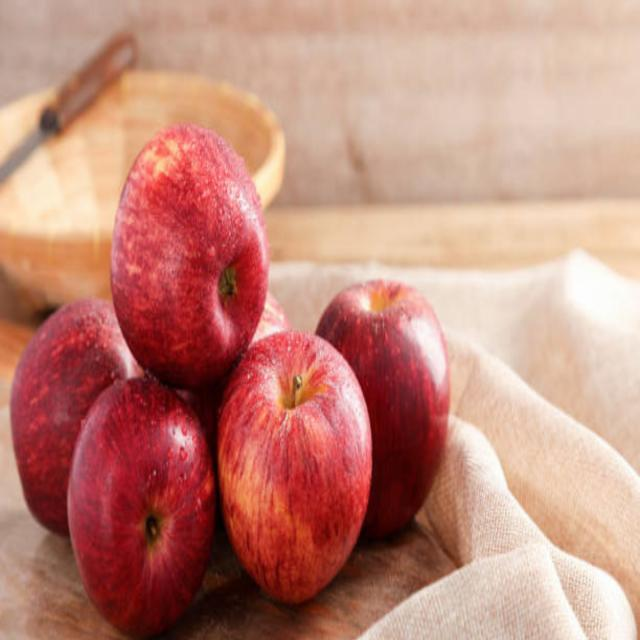manzana: (206, 333, 384, 619), (102, 121, 280, 390)
